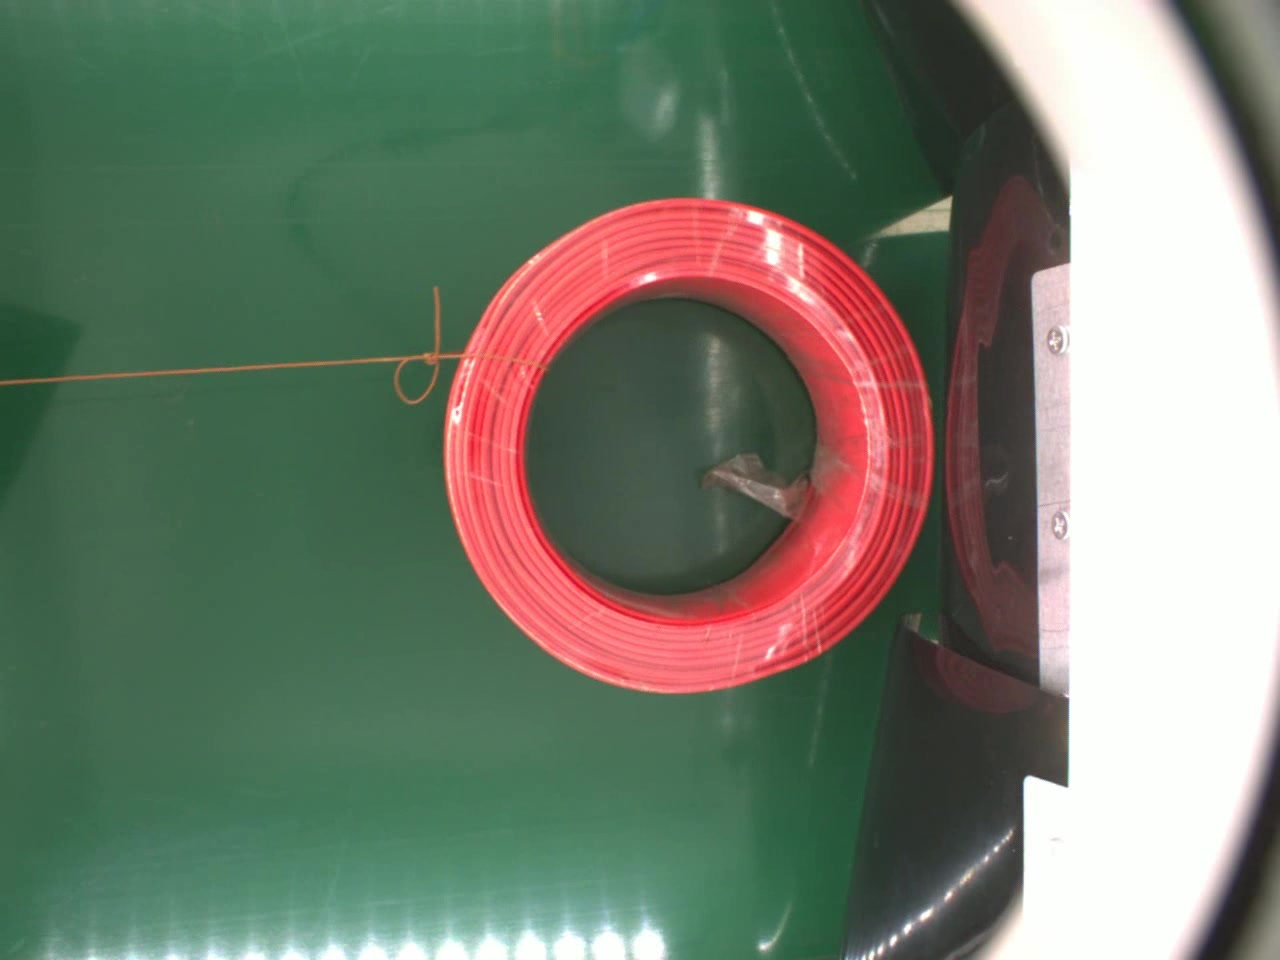red: (435, 191, 946, 700)
